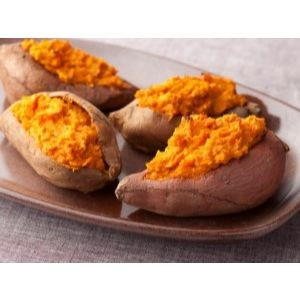sweet potato_brain food: (38, 69, 261, 209)
